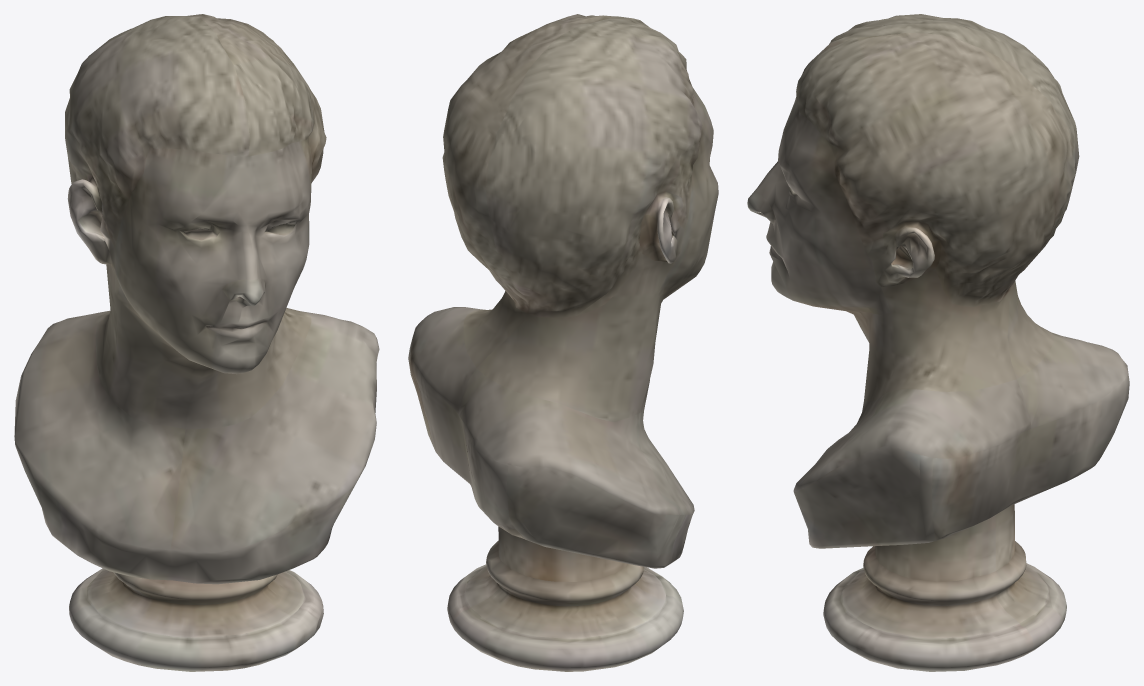
Rendered from bust-marble.lite.cc5c44dc.glb.
3 views of the same model, side by side, from view 1: azimuth 30°, elevation 25°; view 2: azimuth 150°, elevation 25°; view 3: azimuth 270°, elevation 25° (orthographic). The views are drawn at different scales.
Visible parts, largest first — view 1: model; view 2: model; view 3: model.
Boxes of the visible parts, <box> form: model: <box>14,14,379,671</box>; model: <box>408,14,718,671</box>; model: <box>747,14,1129,671</box>.
Bounding box in the file's own units: 0.2717 × 0.5148 × 0.2997.
Materials: 1 (1 with a texture image).
